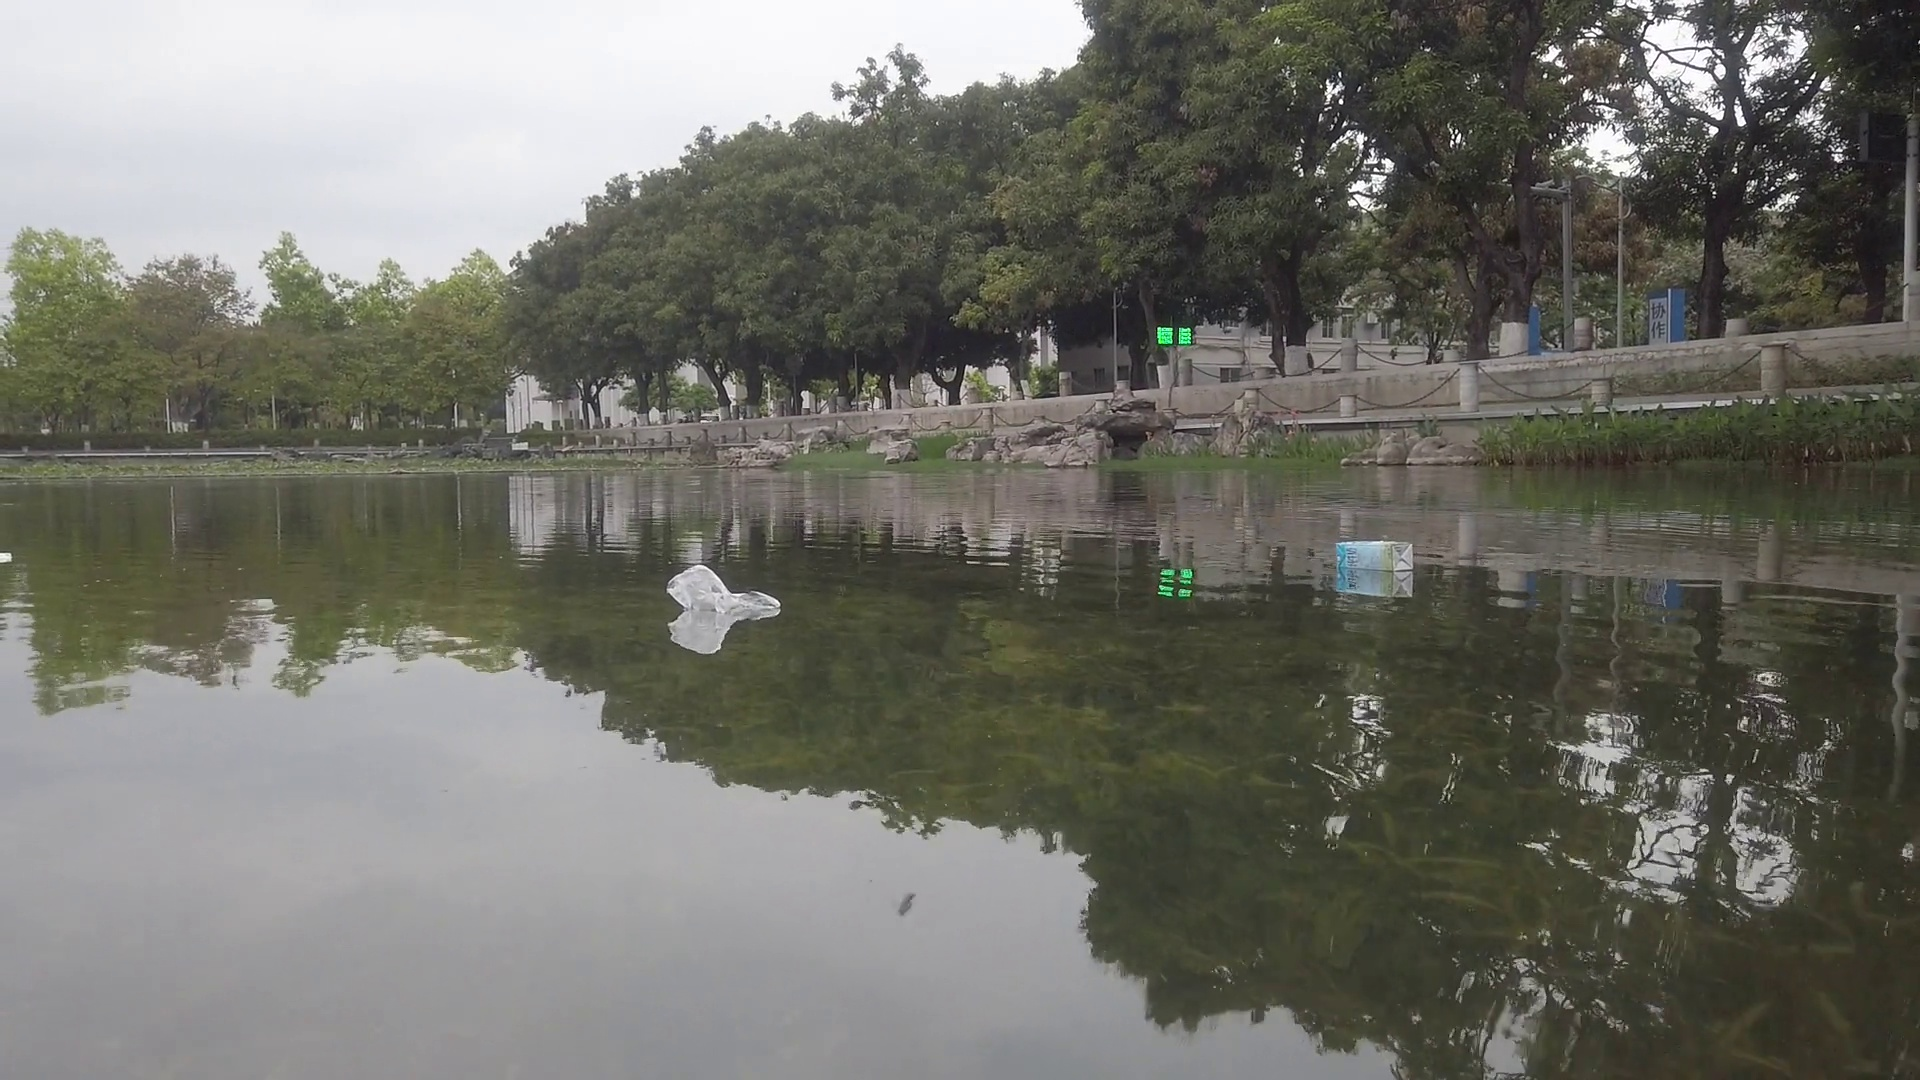carton: (1337, 541, 1414, 571)
paper: (1, 550, 9, 560)
plastic: (667, 568, 783, 618)
